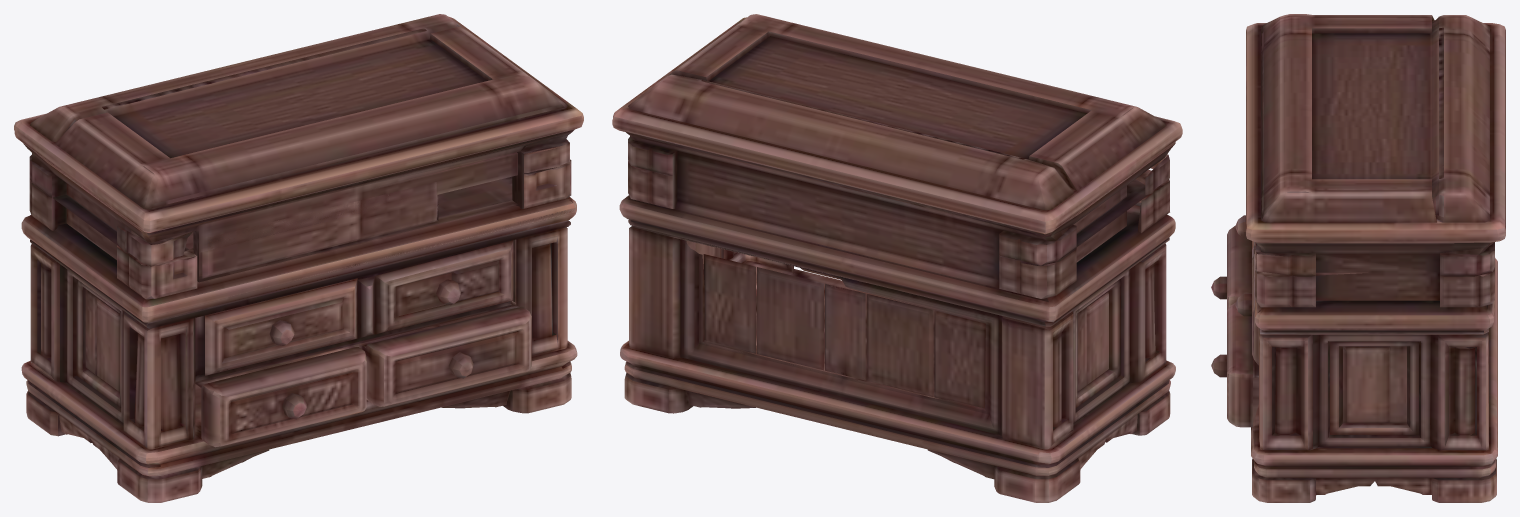
The model's file is dresser_wood.glb.
3 renders of one model, left to right at view 1: azimuth 30°, elevation 25°; view 2: azimuth 150°, elevation 25°; view 3: azimuth 270°, elevation 25°, orthographic. The views are drawn at different scales.
Size of the model in its own units: 1.91 by 1.3 by 1.15.
1 material, 1 textured.
